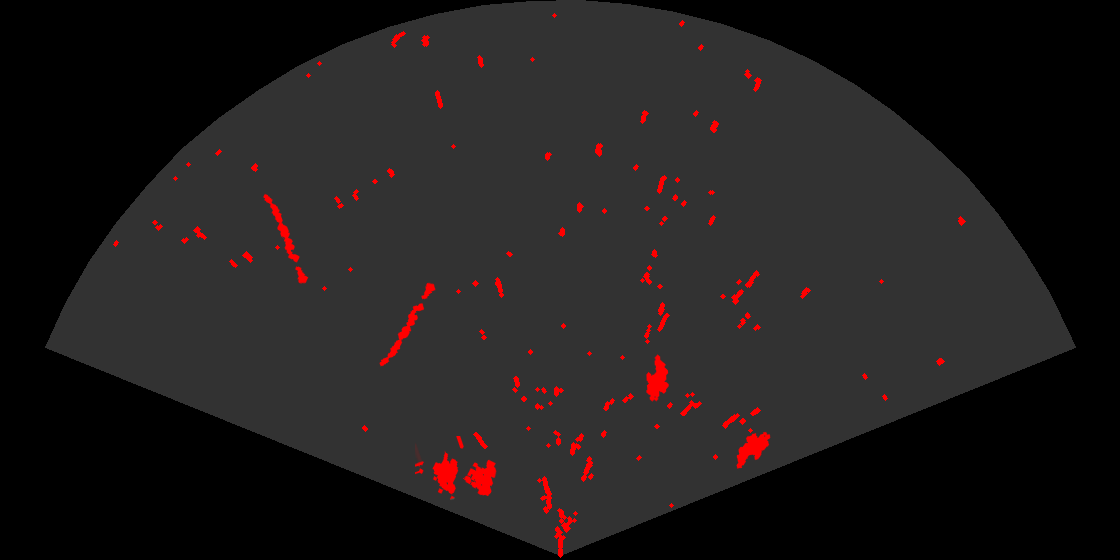AUV: (735, 430, 772, 470), (645, 353, 670, 403)
cage: (415, 436, 498, 501)
chain: (378, 281, 437, 368), (262, 192, 310, 286)
